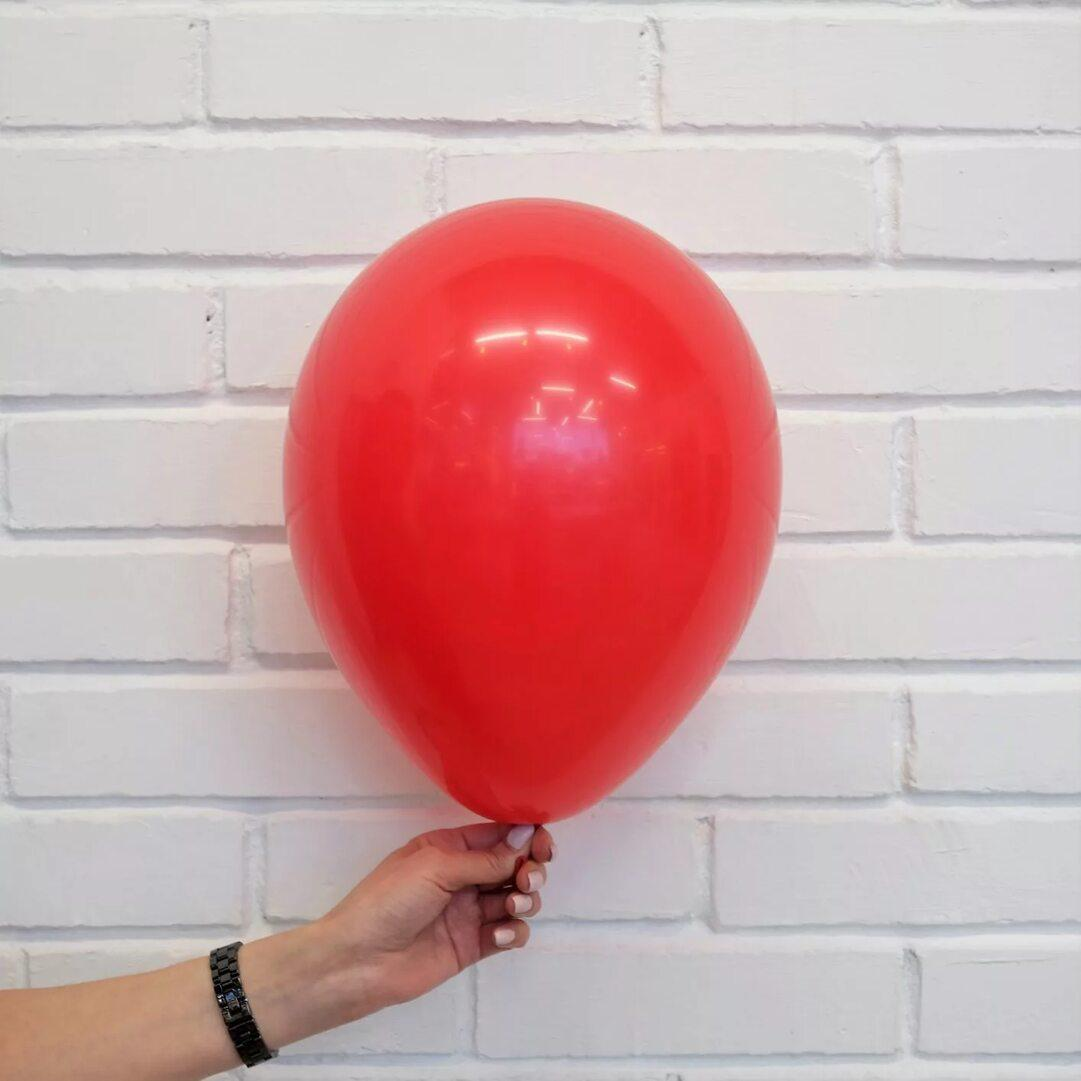red: (260, 183, 792, 863)
